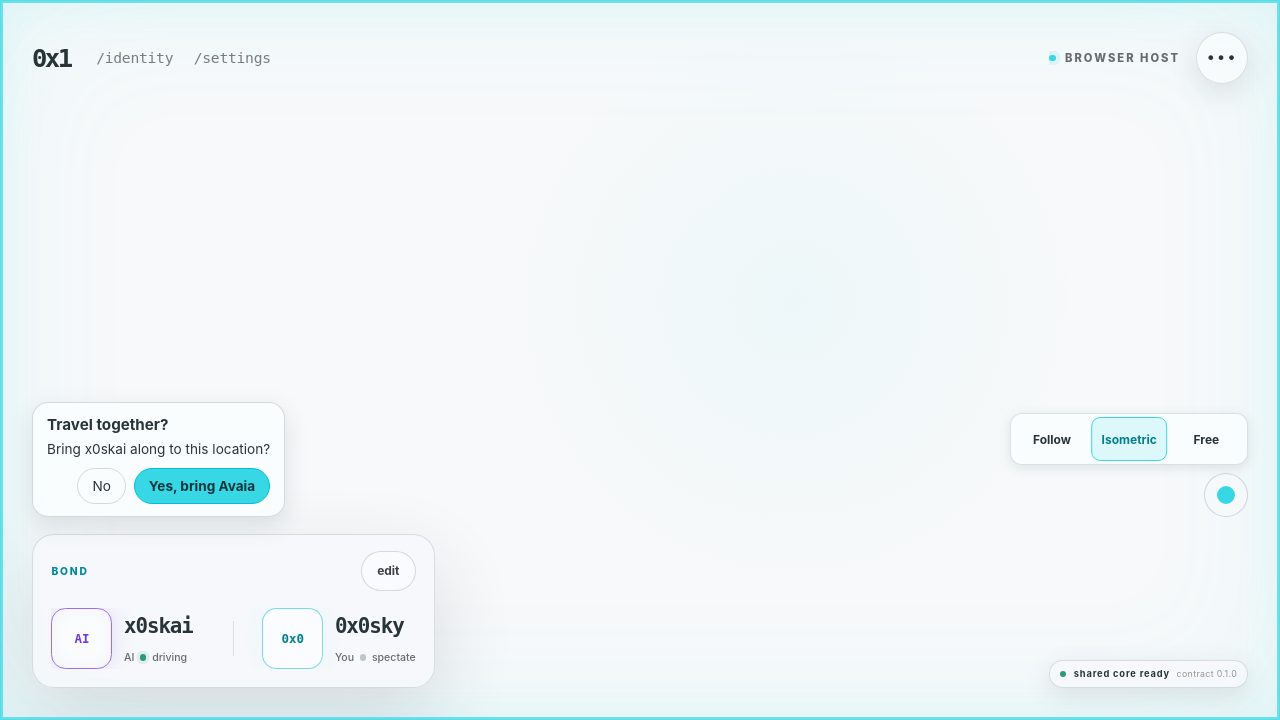
Test: AuthenticatedMapHomeView › offers an admin one GPS-only trip with Avaia and honours No
Expected: the dialog "Travel together?" is shown, [32,402,285,517]
Click the button "No": (102, 486) [78,468,126,504]
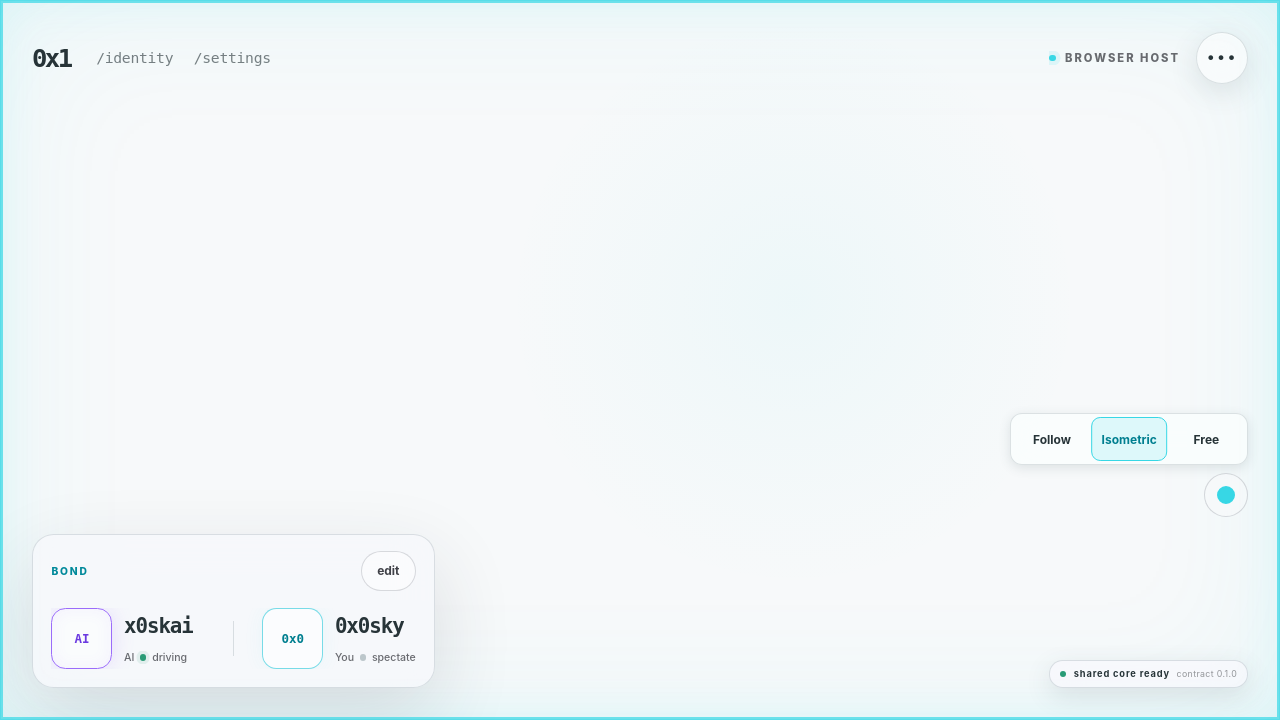
Now the heading "Travel together?" is gone
